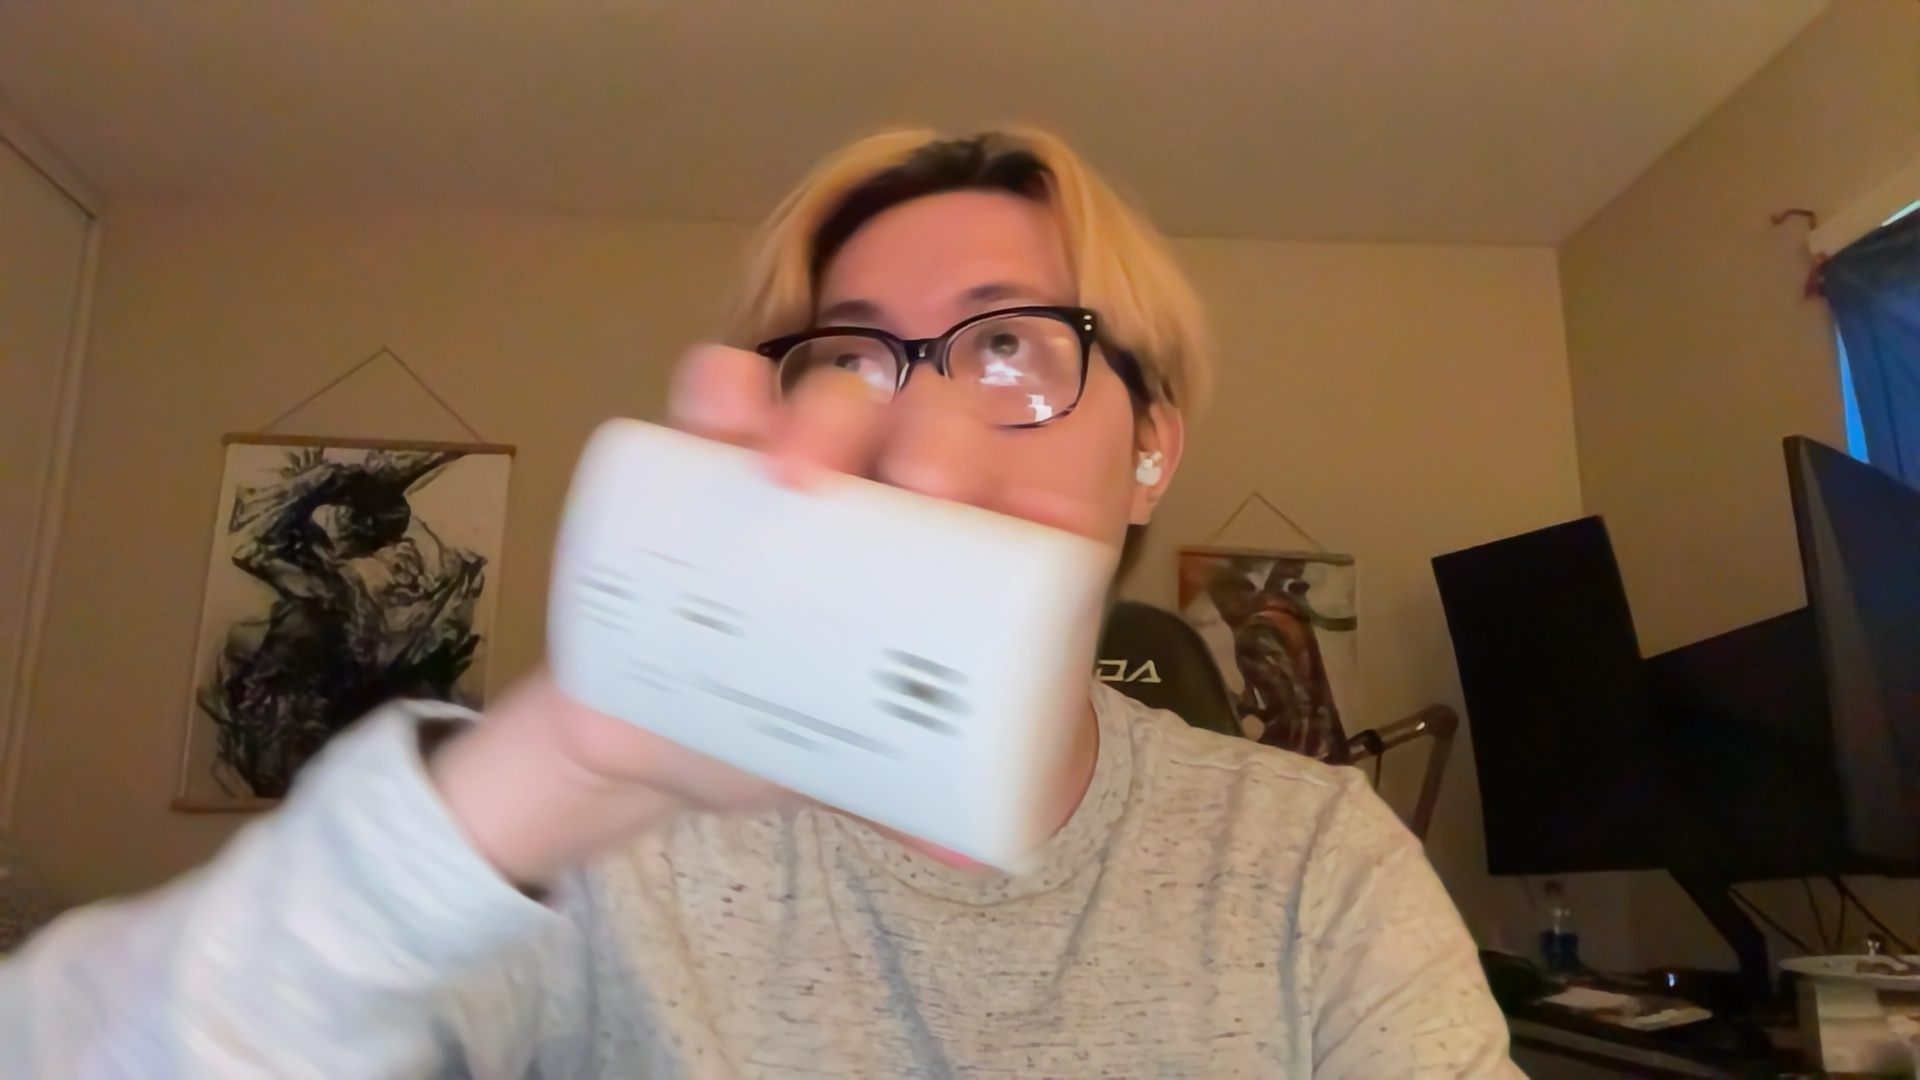carbonmonitor: (524, 421, 1124, 878)
